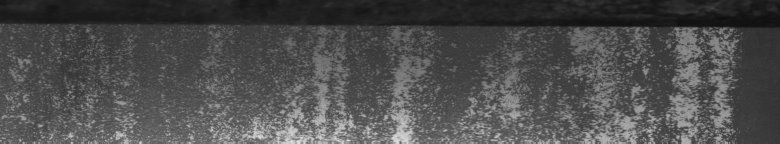kb: (4, 13, 743, 136)
